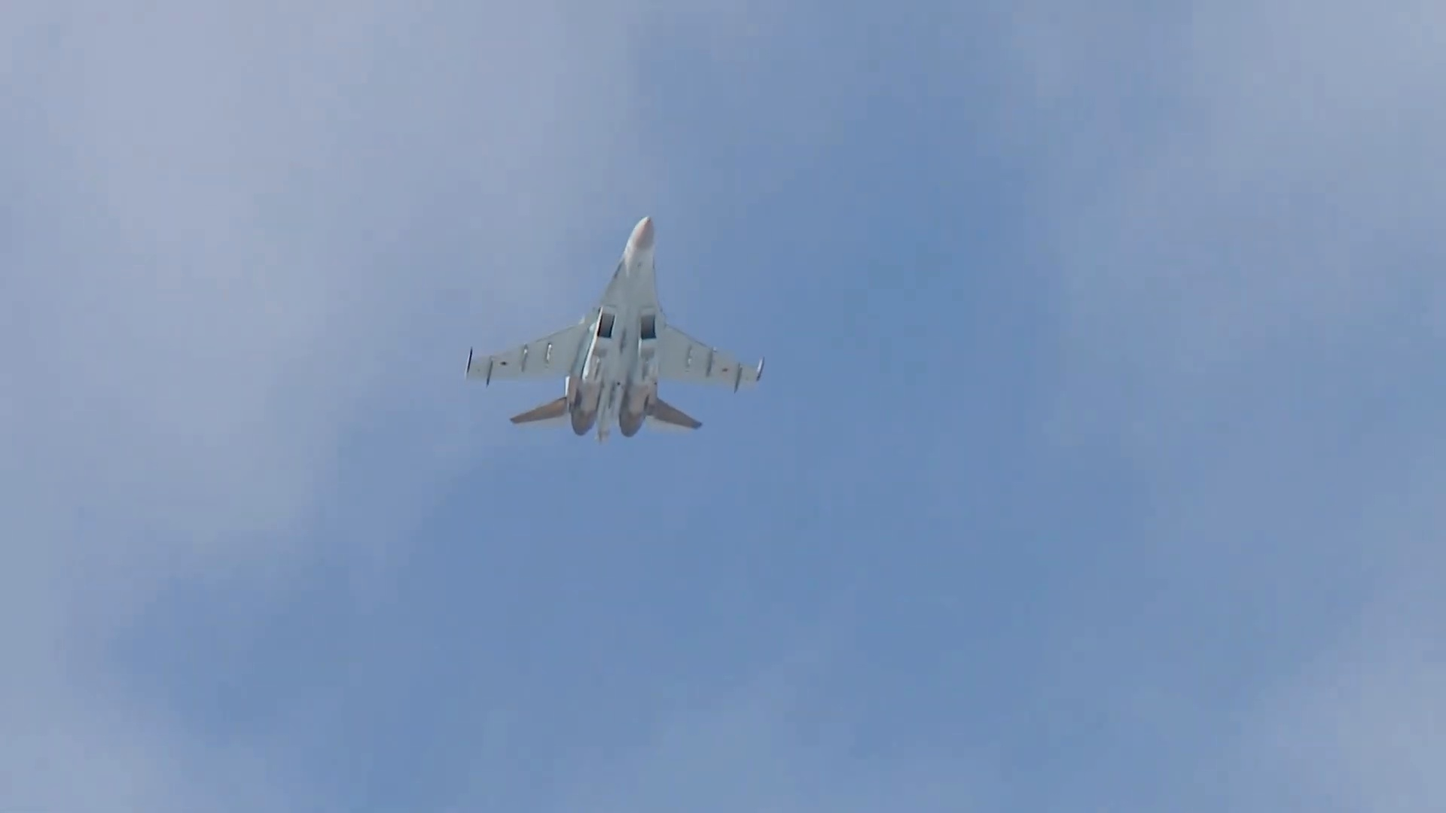Su35: (464, 215, 765, 441)
